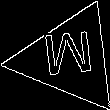M_S: (41, 31, 97, 86)
